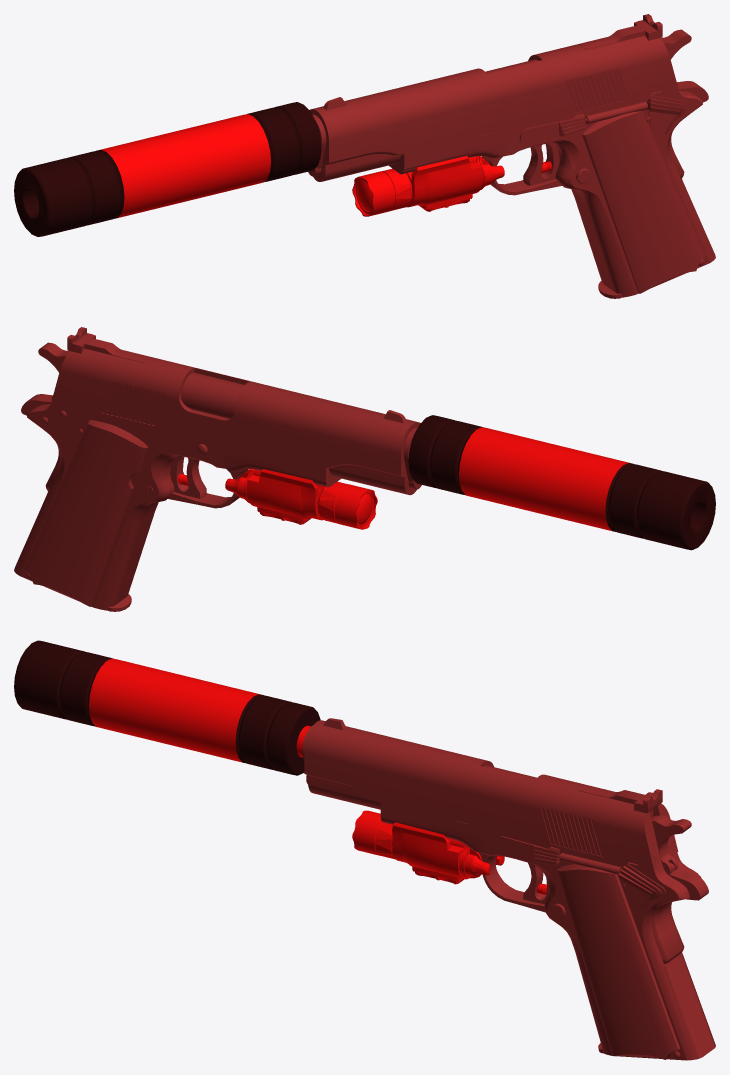
The model's file is FlashLightPistol.fbx.
3 renders of one model, top to bottom at view 1: azimuth 30°, elevation 25°; view 2: azimuth 150°, elevation 25°; view 3: azimuth 330°, elevation 25°, orthographic.
Parts seen in each view (by area): view 1: Cube, Silencer_LP, Cube.003, zzz, Cylinder.016, Cylinder.018, Cube.012, Cube.013, Cylinder.003, Cube.011, Cube.008, Cylinder.004 (+1 smaller); view 2: Cube, Silencer_LP, zzz, Cube.018, Cylinder.016, Cylinder.009, Cylinder.018, Cube.013, Cube.011, Cube.008, Cylinder; view 3: Cube, Silencer_LP, Cube.003, zzz, Cylinder.016, Cube.007, Cube.008, Cylinder.018, Cube.012, Cylinder, Cylinder.003, Cube.013.
Boxes of the visible parts, x1=… form: Cube: x1=308, y1=35, x2=678, y2=181; Silencer_LP: x1=14, y1=102, x2=321, y2=236; Cube.003: x1=581, y1=111, x2=705, y2=293; zzz: x1=389, y1=88, x2=715, y2=297; Cylinder.016: x1=406, y1=156, x2=482, y2=207; Cylinder.018: x1=352, y1=168, x2=412, y2=216; Cube.012: x1=647, y1=95, x2=689, y2=134; Cube.013: x1=578, y1=14, x2=662, y2=49; Cylinder.003: x1=519, y1=113, x2=586, y2=145; Cube.011: x1=523, y1=143, x2=559, y2=185; Cube.008: x1=669, y1=81, x2=708, y2=178; Cylinder.004: x1=584, y1=101, x2=647, y2=123; Cube: x1=52, y1=348, x2=421, y2=495; Silencer_LP: x1=408, y1=415, x2=715, y2=550; zzz: x1=14, y1=401, x2=341, y2=610; Cube.018: x1=24, y1=420, x2=148, y2=606; Cylinder.016: x1=247, y1=469, x2=323, y2=520; Cylinder.009: x1=181, y1=372, x2=244, y2=418; Cylinder.018: x1=317, y1=481, x2=377, y2=529; Cube.013: x1=67, y1=327, x2=152, y2=362; Cube.011: x1=170, y1=456, x2=206, y2=498; Cube.008: x1=21, y1=394, x2=60, y2=491; Cylinder: x1=38, y1=342, x2=68, y2=401; Cube: x1=304, y1=718, x2=678, y2=869; Silencer_LP: x1=14, y1=640, x2=320, y2=775; Cube.003: x1=557, y1=864, x2=679, y2=1059; zzz: x1=380, y1=803, x2=713, y2=1060; Cylinder.016: x1=392, y1=822, x2=468, y2=879; Cube.007: x1=664, y1=954, x2=715, y2=1059; Cube.008: x1=652, y1=868, x2=708, y2=964; Cylinder.018: x1=352, y1=810, x2=394, y2=859; Cube.012: x1=618, y1=864, x2=665, y2=909; Cylinder: x1=651, y1=815, x2=691, y2=874; Cylinder.003: x1=495, y1=836, x2=559, y2=864; Cube.013: x1=578, y1=784, x2=662, y2=813.
Size of the model in its own units: 36.41 by 13.54 by 3.31.
